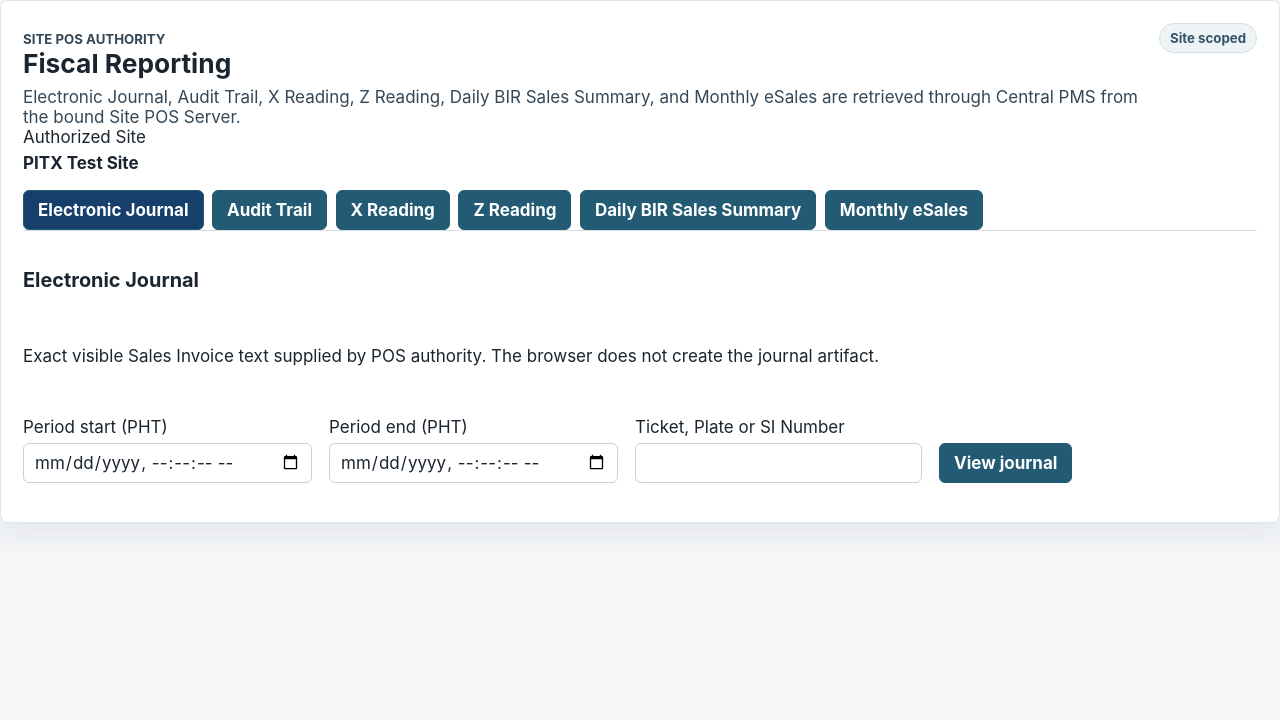
Test: Operator Console fiscal reporting › keeps EJ, X history, Z history, and open dates available when there is no current X period
Type "2026-09-10T00:00" into the field named "EJ period start PHT". click: (168, 463)
box: [23,443,312,483]
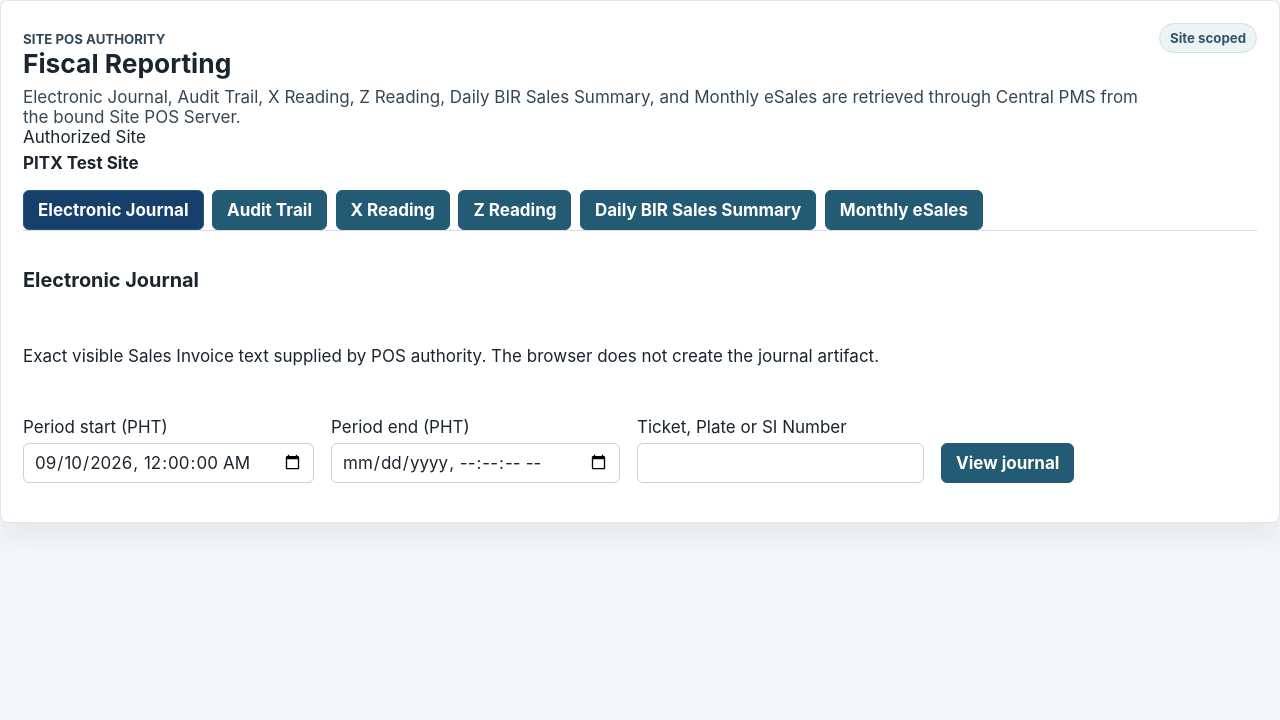
Type "2026-09-11T00:00" into the field named "EJ period end PHT". click: (476, 463)
box: [331,443,620,483]
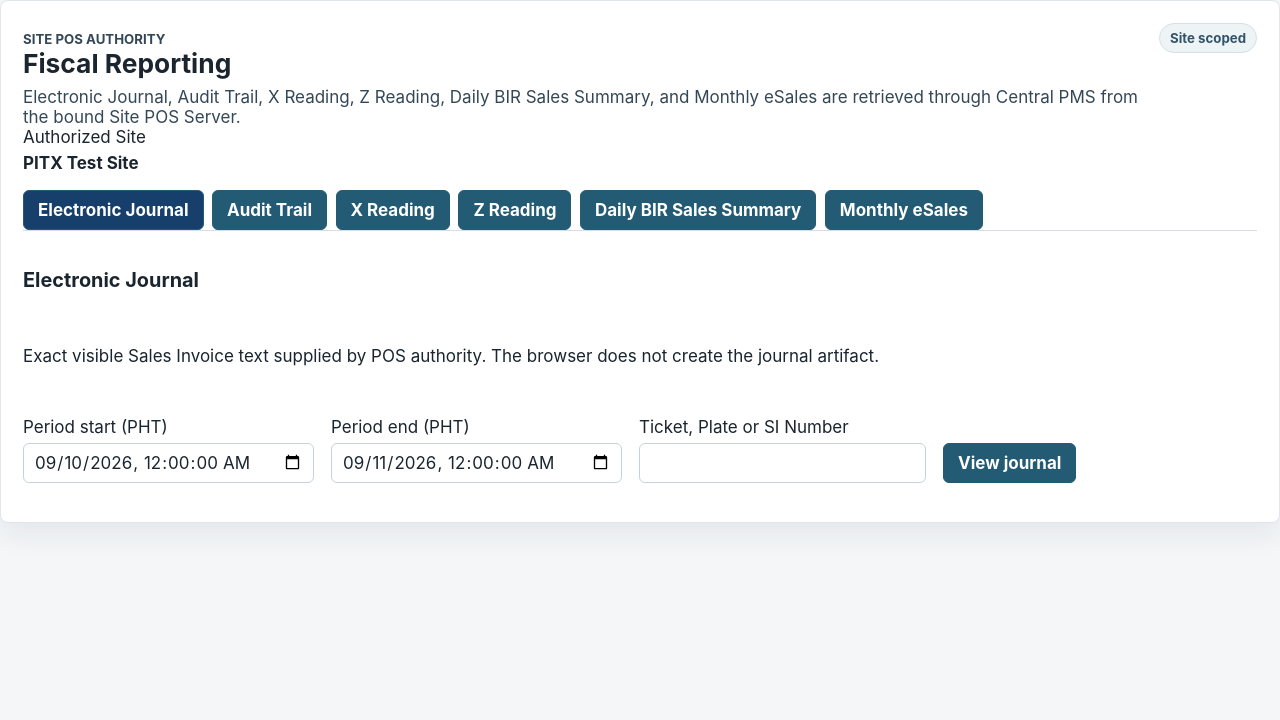
Click the button "View journal". click: (1010, 463)
box: [943,443,1076,483]
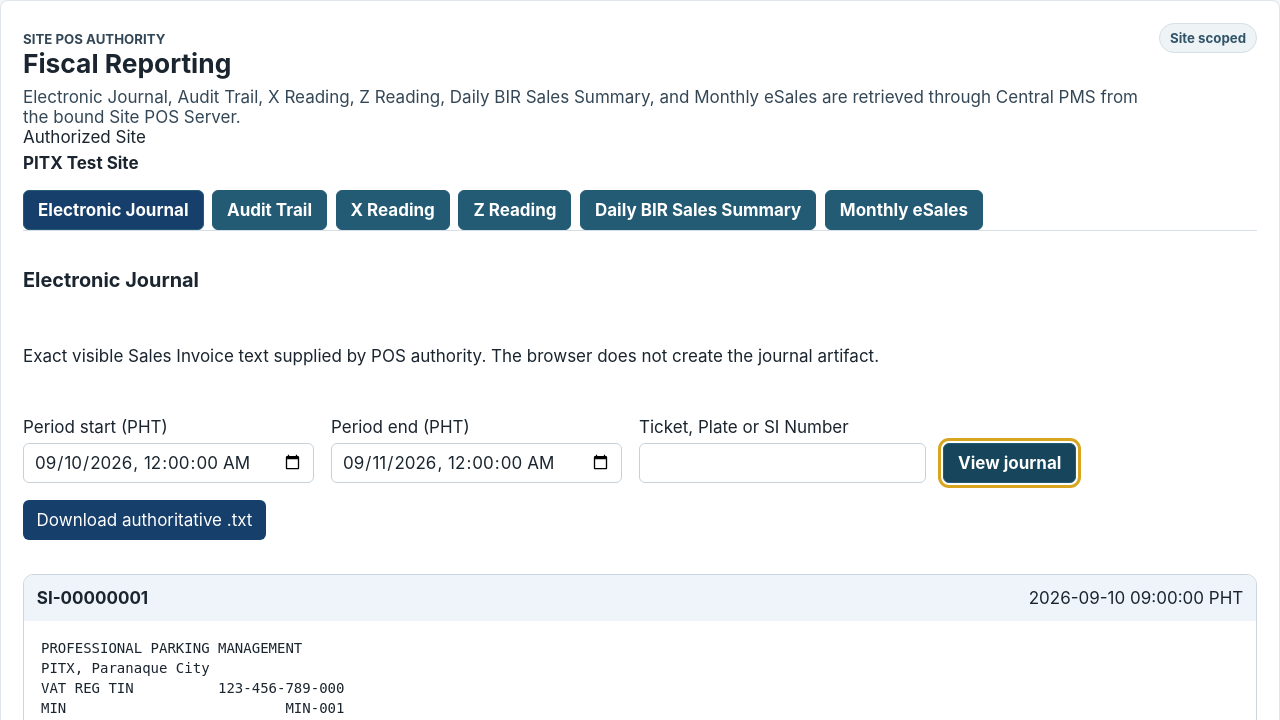
expect the text "SI-00000001" is shown: met, box [37,588,148,608]
Click the tab "X Reading". click: (393, 210)
box: [336,190,450,230]
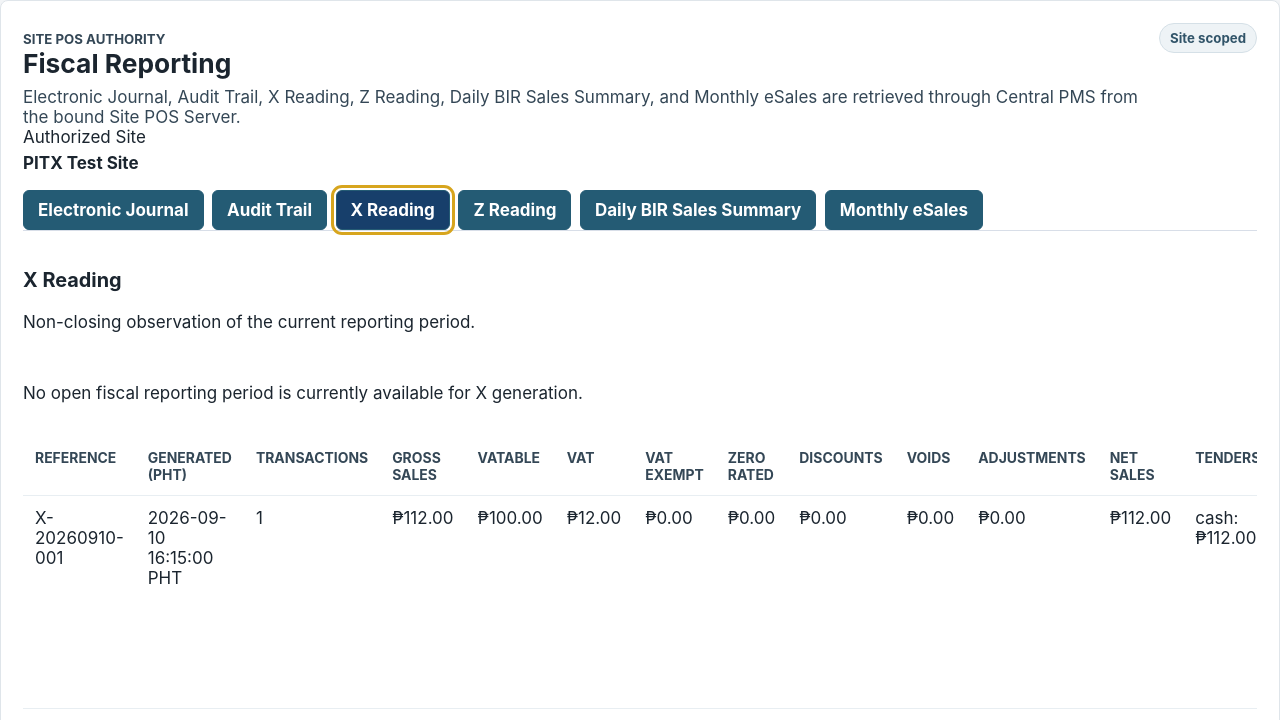
expect the text "X-20260910-001" is shown: met, box [23,495,136,708]
expect the text "No open fiscal reporting period is currently available for X generation." is shown: met, box [23,383,583,403]
Click the tab "Z Reading". click: (515, 210)
box: [458,190,572,230]
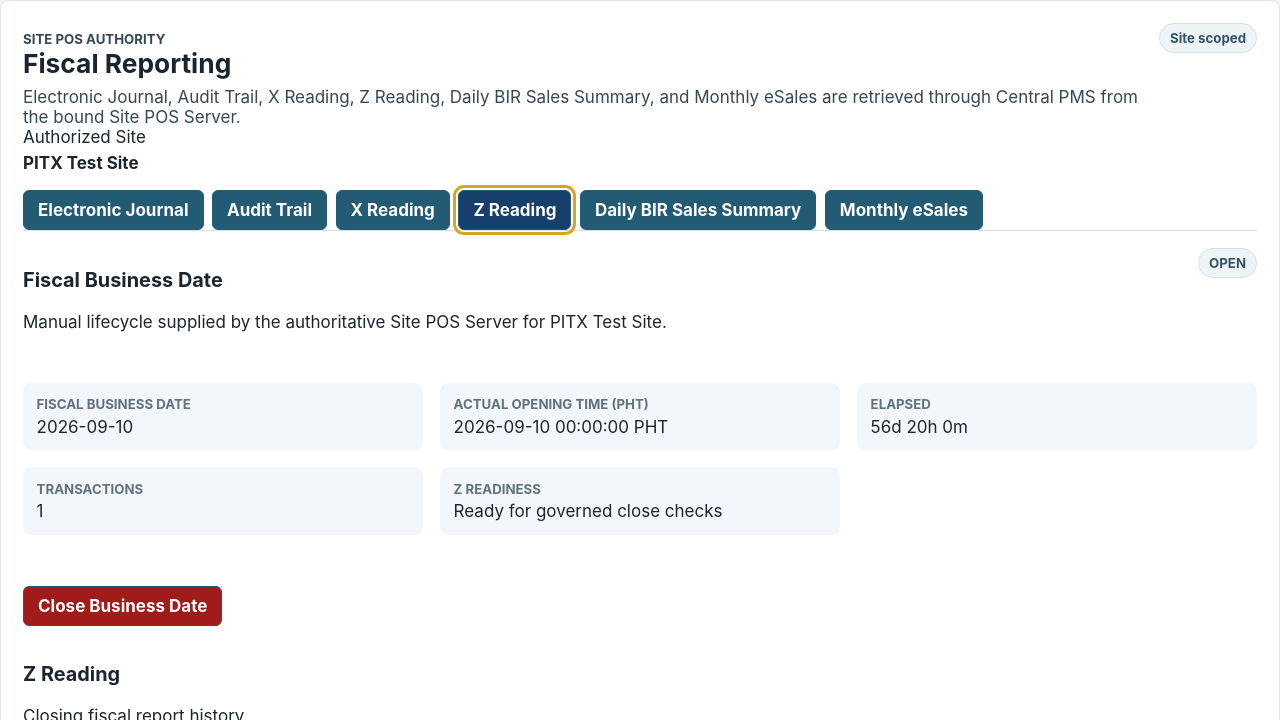
expect the heading "Fiscal Business Date" is shown: met, box [23,268,223,292]
expect the button "Close Business Date" is shown: met, box [23,586,222,626]
